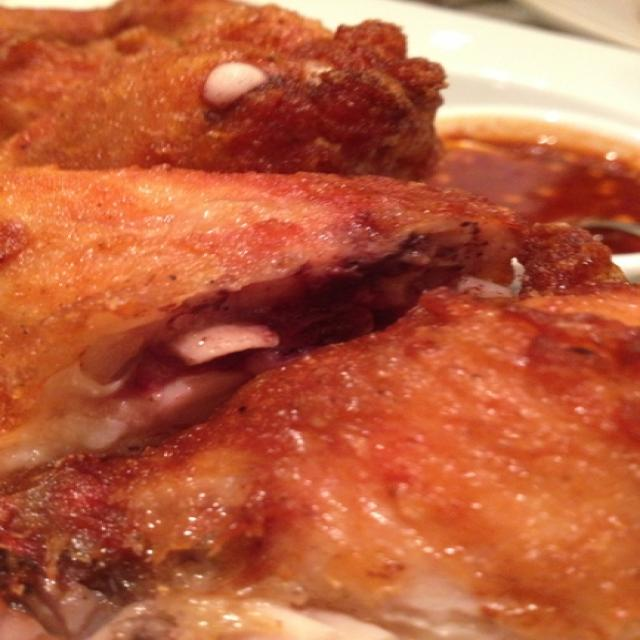鸡肉料理 含炸鸡: (25, 24, 590, 612)
